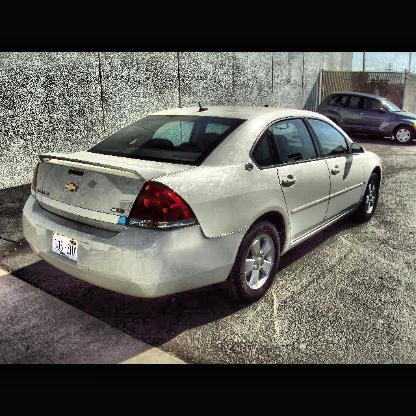Chevrolet Impala Sedan 2007: (22, 99, 385, 303)
